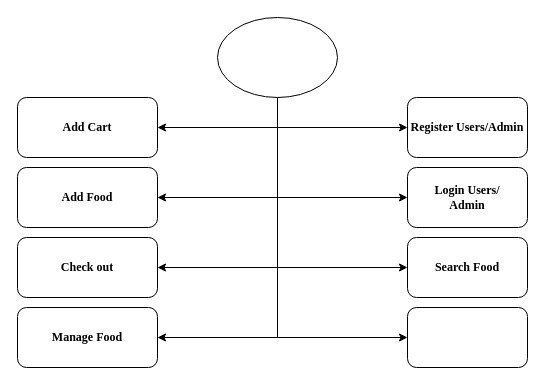
Some shapes in this 545 by 385 pixel diagram are drawn without their labels. The centre of each missing label's shape, as x and y in pixels:
"Manage Delevery" goes at (x=467, y=337).
"Start" goes at (x=277, y=57).
